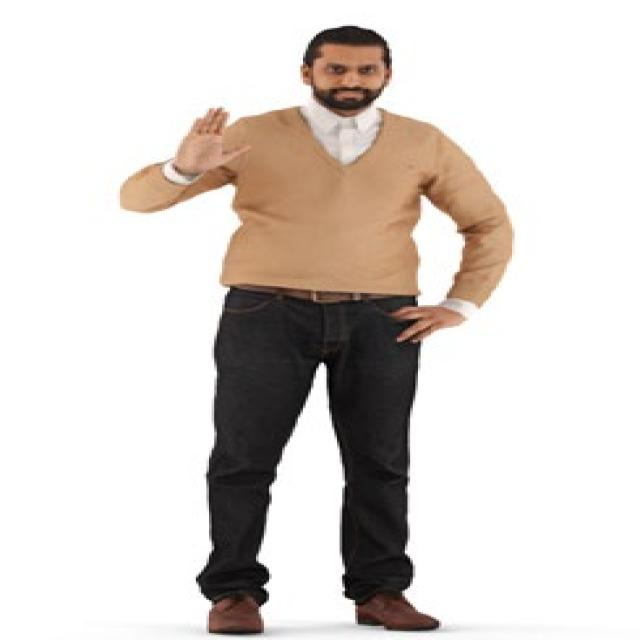standing: (120, 22, 523, 630)
